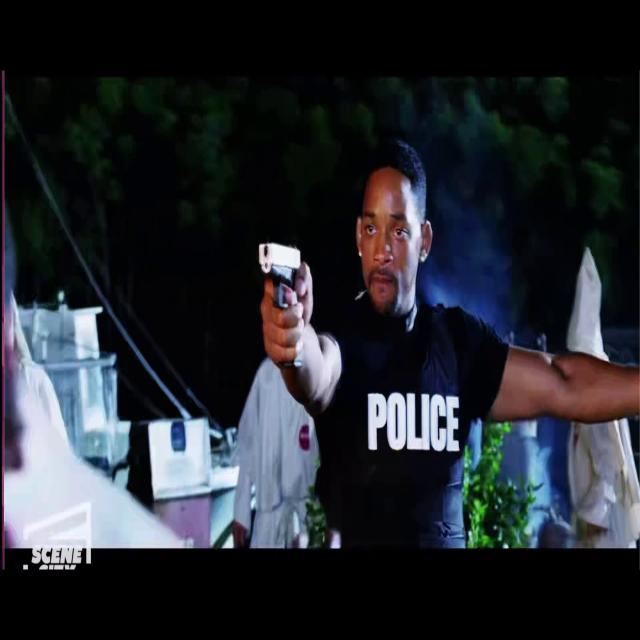weapons: (246, 219, 324, 381)
